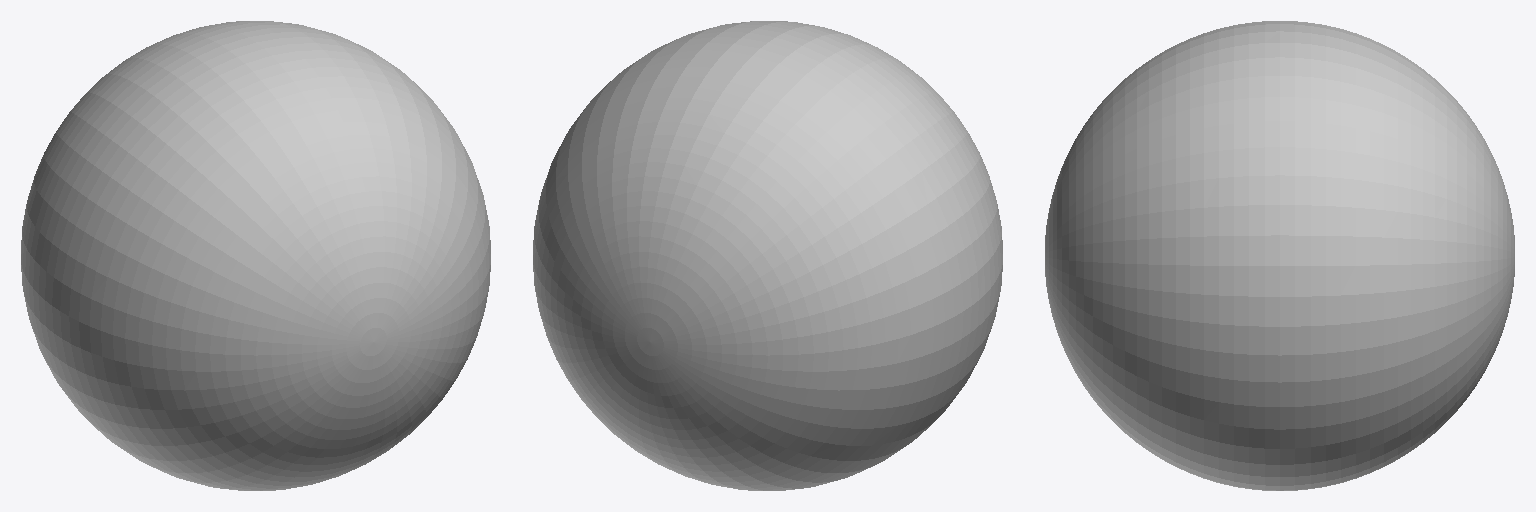
3 renders of one model, left to right at view 1: azimuth 30°, elevation 25°; view 2: azimuth 150°, elevation 25°; view 3: azimuth 270°, elevation 25°, orthographic.
Parts seen in each view (by area): view 1: default_defaultMesh; view 2: default_defaultMesh; view 3: default_defaultMesh.
Part boxes in pixels (bbox=[...]): default_defaultMesh: bbox=[21, 21, 490, 490]; default_defaultMesh: bbox=[533, 21, 1002, 490]; default_defaultMesh: bbox=[1045, 21, 1514, 490].
Bounding box in the file's own units: 0.066 × 0.066 × 0.066.